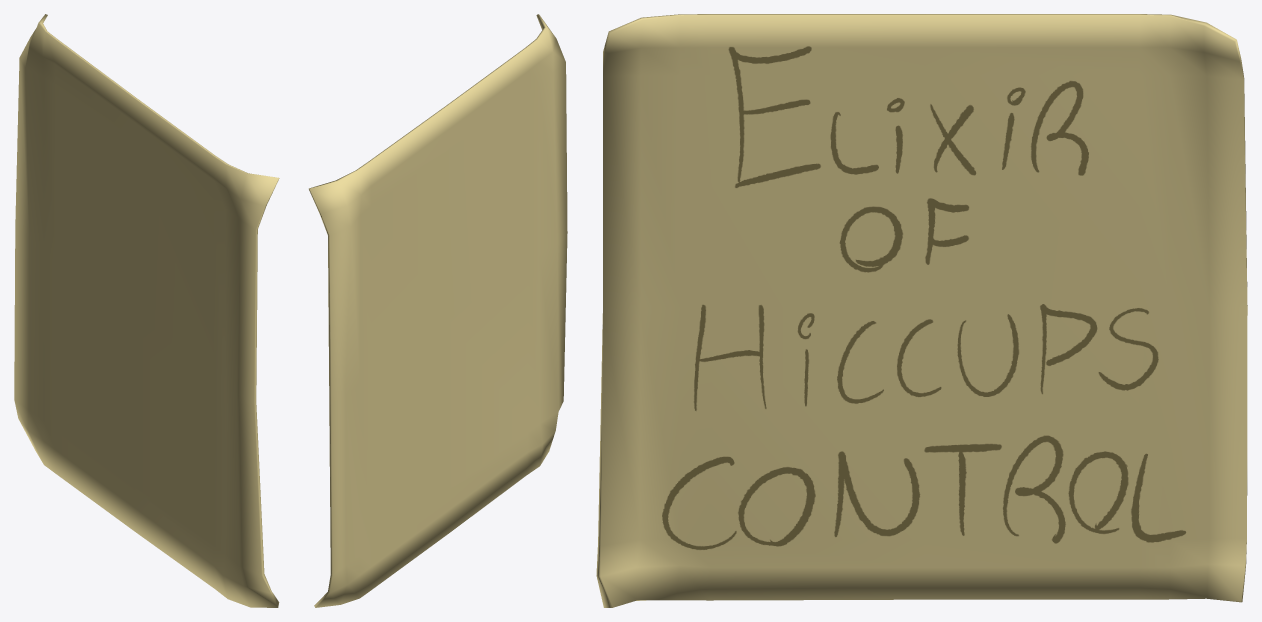
Rendered from papelElixirOfHiccupsControl.fbx.
3 views of the same model, side by side, from view 1: azimuth 30°, elevation 25°; view 2: azimuth 150°, elevation 25°; view 3: azimuth 270°, elevation 25° (orthographic). The views are drawn at different scales.
Visible parts, largest first — view 1: Papel; view 2: Papel; view 3: Papel.
Part boxes in pixels (x1,y1,x2,y2): Papel: (14, 14, 279, 607); Papel: (309, 14, 567, 607); Papel: (596, 14, 1247, 607).
Bounding box in the file's own units: 16.28 × 200 × 202.
